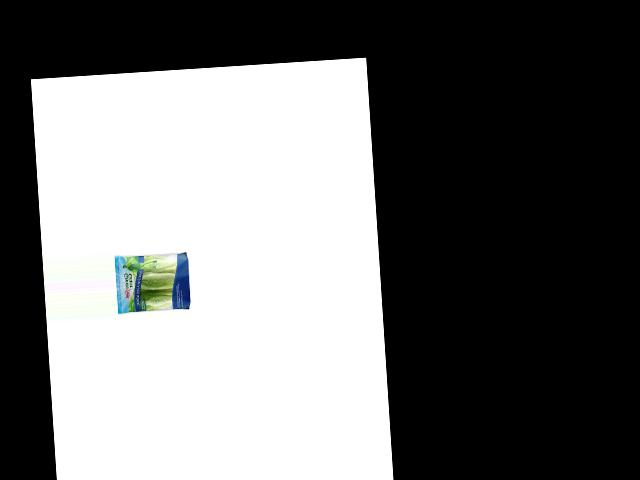lettuce: (117, 249, 194, 314)
